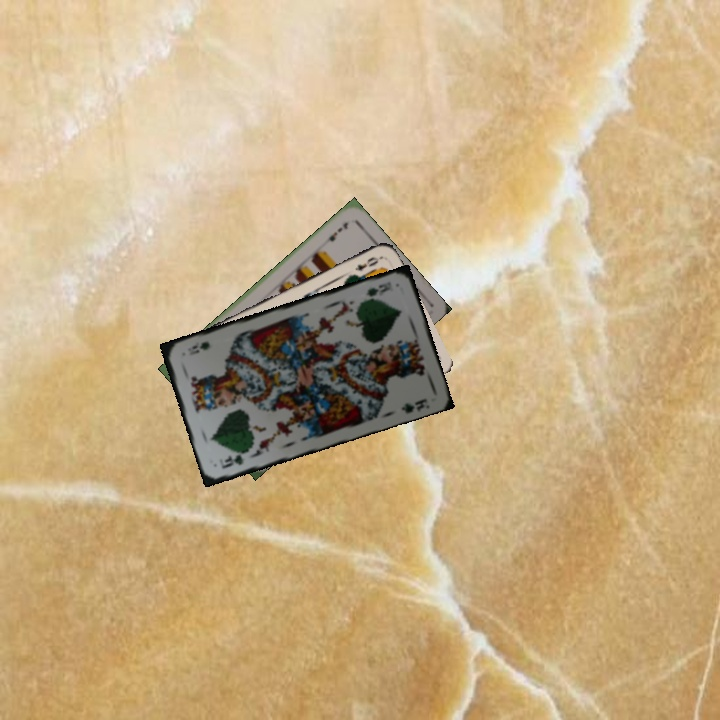E7: (319, 218, 351, 248)
EO: (351, 253, 384, 274)
GK: (360, 277, 394, 303), (217, 447, 252, 471)
